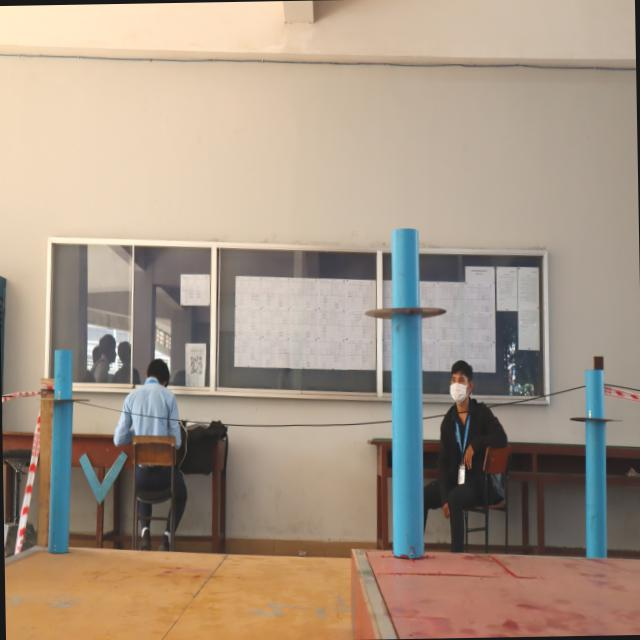pole: (359, 224, 452, 380), (568, 367, 624, 469), (39, 346, 91, 436)
